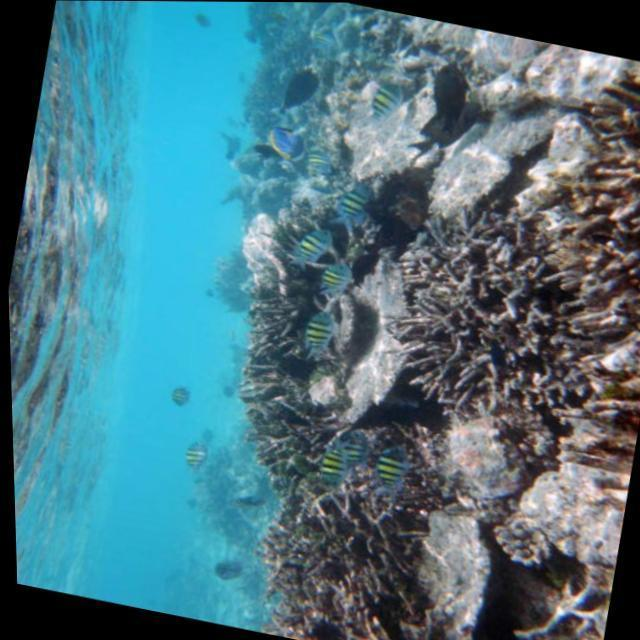Dead Coral: (363, 202, 594, 434), (247, 483, 433, 640), (205, 283, 340, 489), (532, 56, 640, 300)
